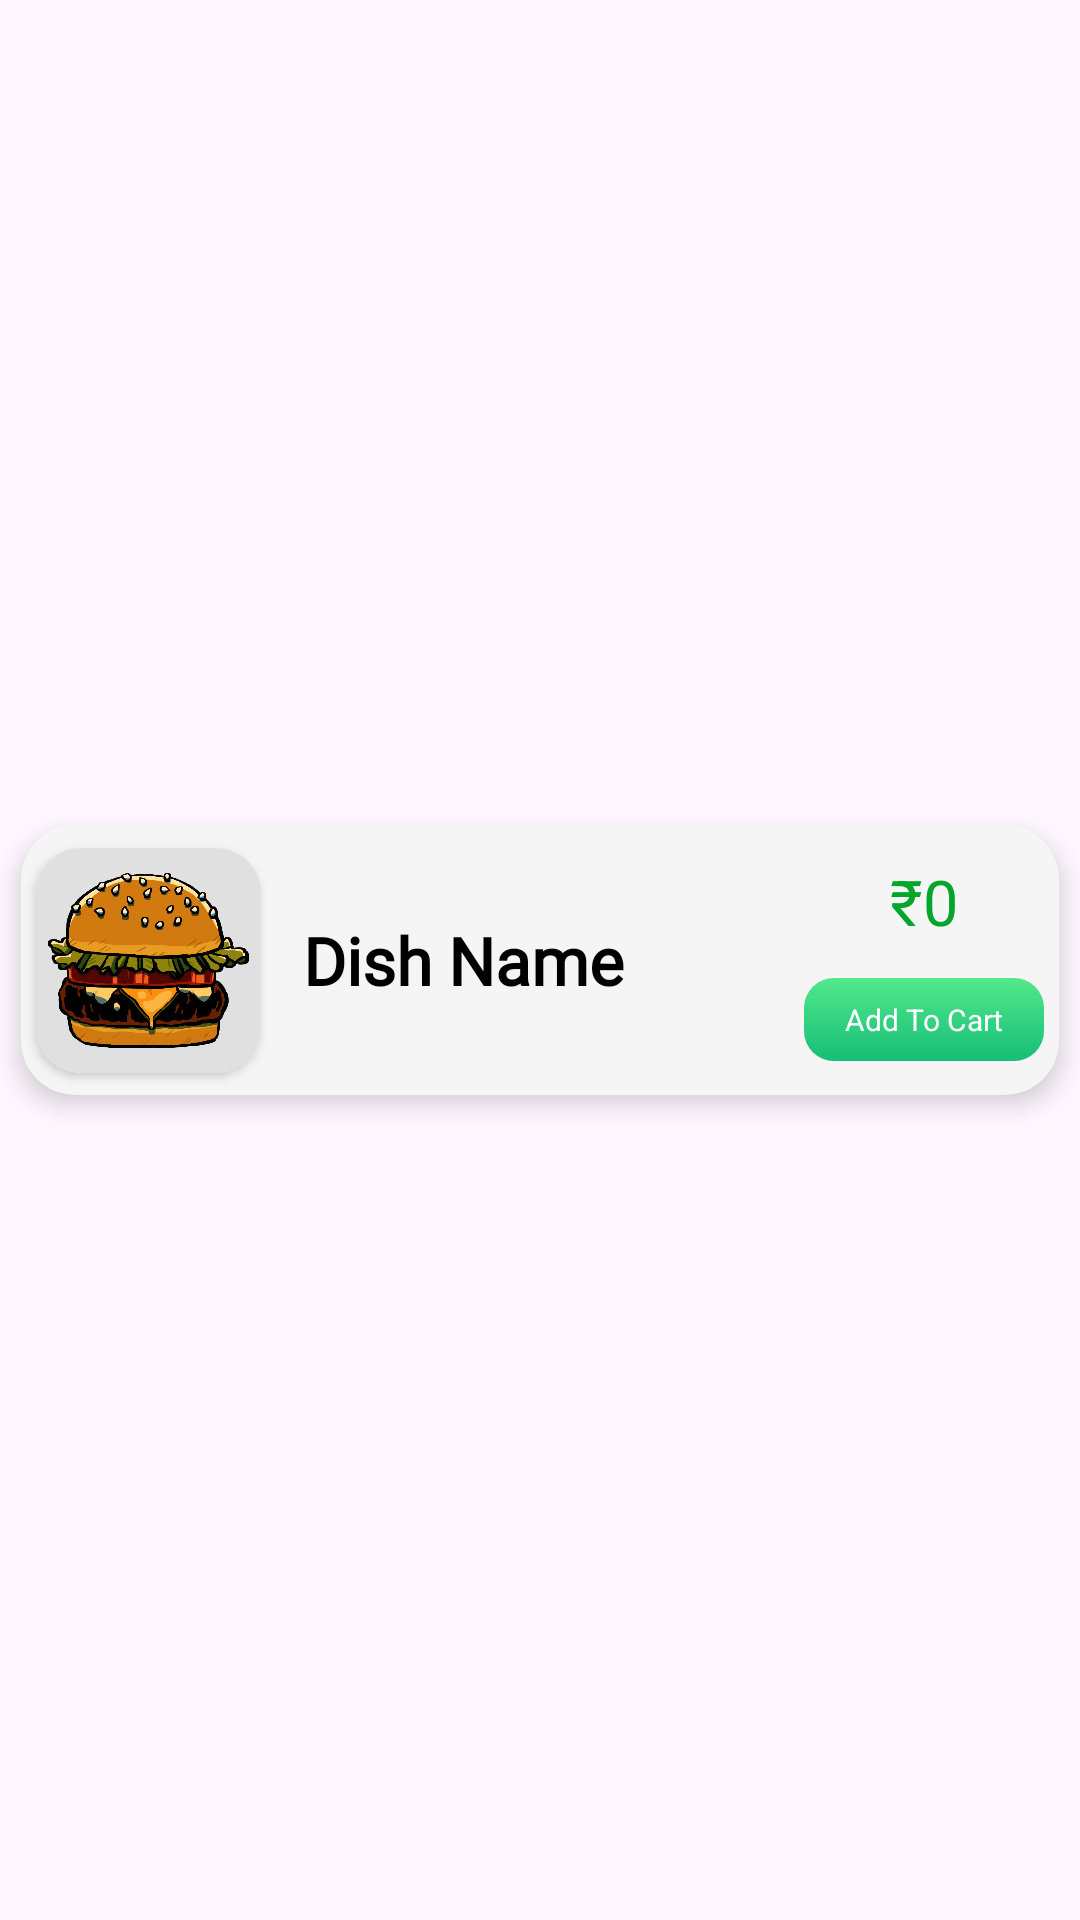

Point at icon controls on the screen. Image size 1080*1920, points as [x,y].
burger: [143,973]
